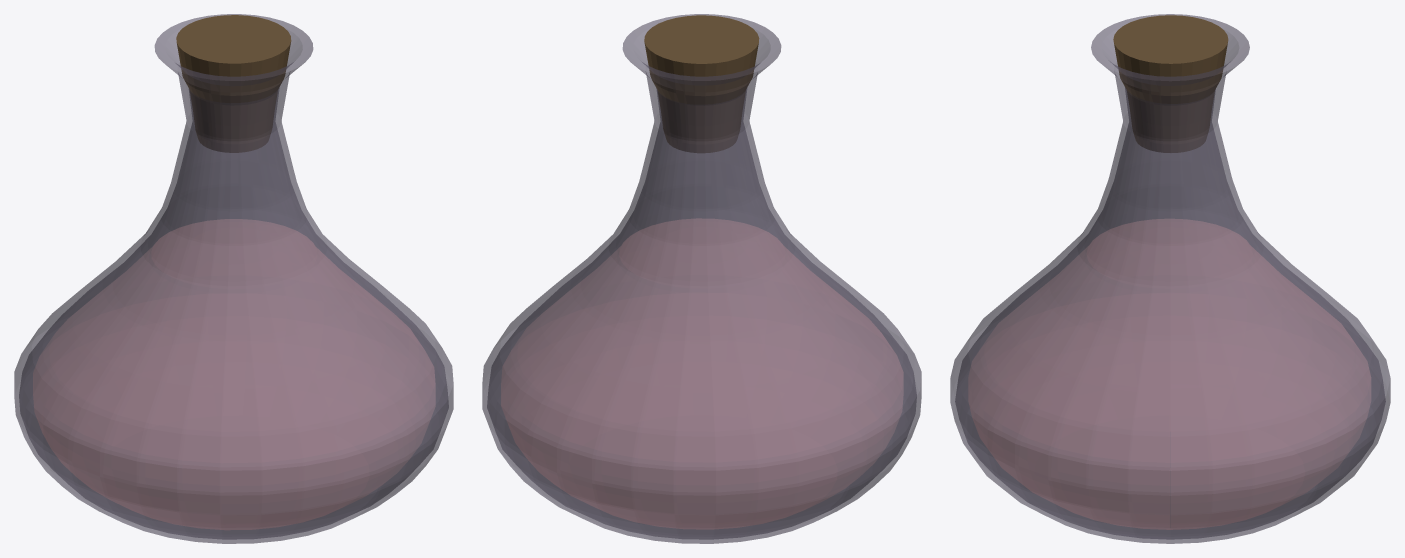
Rendered from Potions.fbx.
3 renders of one model, left to right at view 1: azimuth 30°, elevation 25°; view 2: azimuth 150°, elevation 25°; view 3: azimuth 270°, elevation 25°, orthographic.
Parts seen in each view (by area): view 1: Bottle.001, Liquid.001, Cork.001; view 2: Bottle.001, Liquid.001, Cork.001; view 3: Bottle.001, Liquid.001, Cork.001.
Boxes of the visible parts, x1=… form: Bottle.001: x1=14, y1=14, x2=453, y2=543; Liquid.001: x1=33, y1=219, x2=434, y2=529; Cork.001: x1=176, y1=15, x2=291, y2=152; Bottle.001: x1=482, y1=14, x2=921, y2=543; Liquid.001: x1=501, y1=219, x2=902, y2=528; Cork.001: x1=644, y1=15, x2=759, y2=152; Bottle.001: x1=950, y1=14, x2=1390, y2=543; Liquid.001: x1=969, y1=219, x2=1370, y2=529; Cork.001: x1=1113, y1=15, x2=1228, y2=152.
Size of the model in its own units: 1.32 by 1.47 by 1.32.
